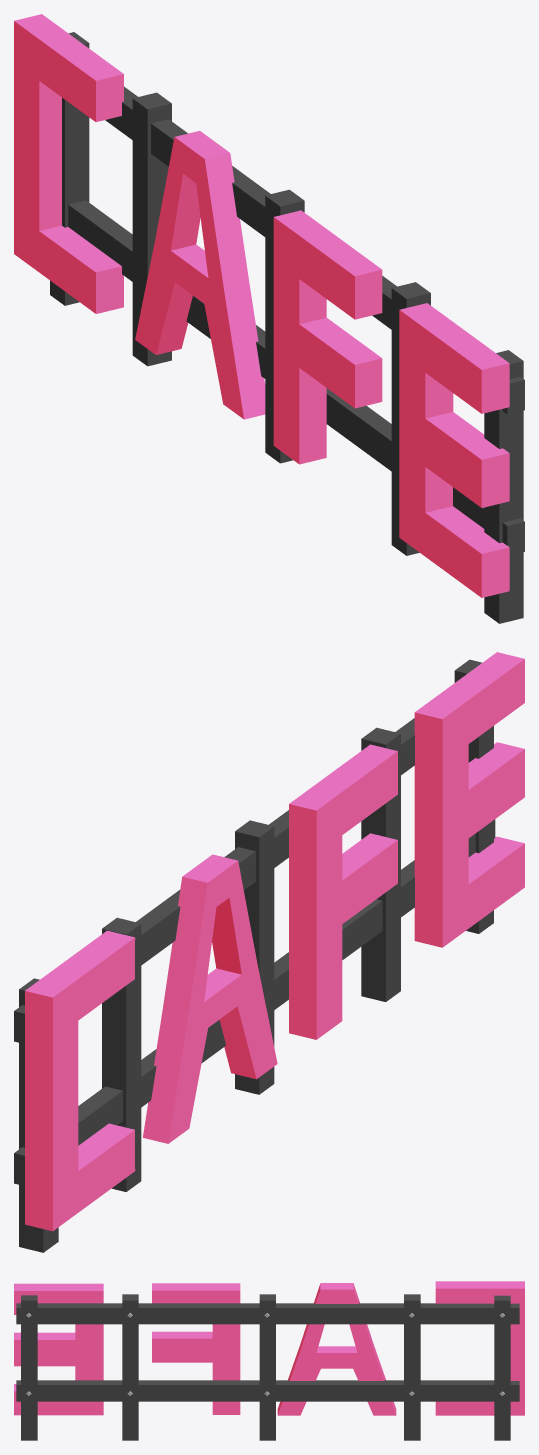
Rendered from SM_Hoarding_07.fbx.
3 views of the same model, one above another, from view 1: azimuth 30°, elevation 25°; view 2: azimuth 150°, elevation 25°; view 3: azimuth 270°, elevation 25° (orthographic). The views are drawn at different scales.
Visible parts, largest first — view 1: SM_Hoarding_07_LOD0; view 2: SM_Hoarding_07_LOD0; view 3: SM_Hoarding_07_LOD0.
Part boxes in pixels (x1=…): SM_Hoarding_07_LOD0: x1=14, y1=14, x2=524, y2=623; SM_Hoarding_07_LOD0: x1=14, y1=652, x2=524, y2=1252; SM_Hoarding_07_LOD0: x1=14, y1=1281, x2=524, y2=1440.
Bounding box in the file's own units: 46.85 × 761 × 241.
1 material, 1 textured.
